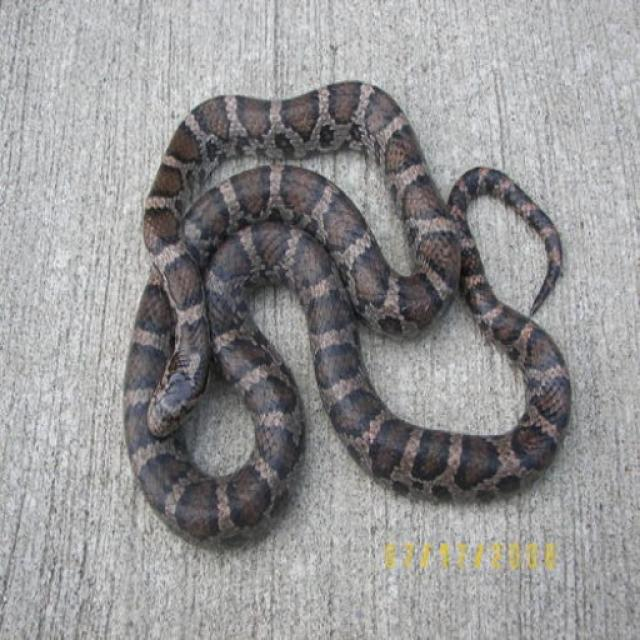snake: (105, 66, 593, 568)
